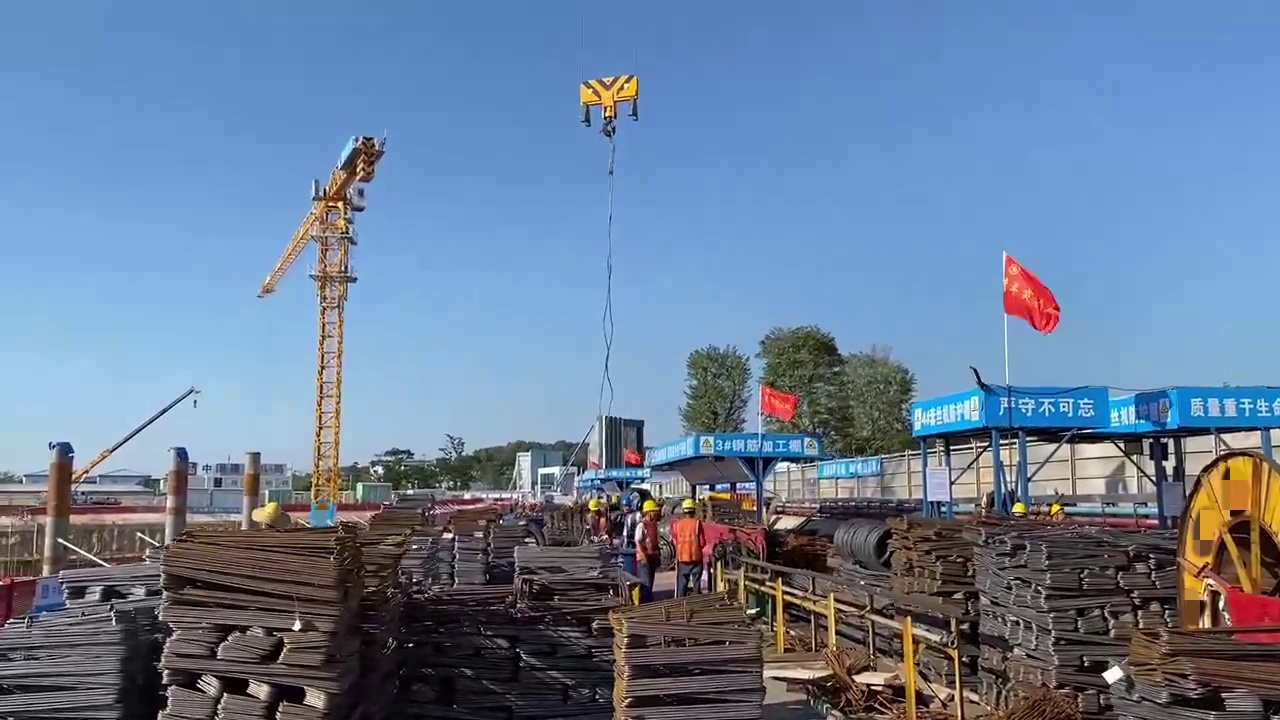helmet: (642, 499, 660, 511), (681, 499, 696, 512), (588, 497, 603, 509), (1010, 502, 1025, 514), (1051, 504, 1065, 515)
hook: (579, 75, 642, 112)
person: (671, 499, 704, 593), (635, 499, 659, 595)
rebar: (139, 525, 367, 720), (976, 521, 1187, 720), (608, 604, 782, 718), (1116, 628, 1270, 720), (7, 611, 123, 720), (893, 520, 978, 620), (514, 538, 613, 618), (436, 513, 493, 600), (366, 533, 404, 643)
slogan: (985, 390, 1112, 425), (1175, 387, 1280, 425)
vest: (674, 520, 699, 563), (638, 519, 658, 556)
